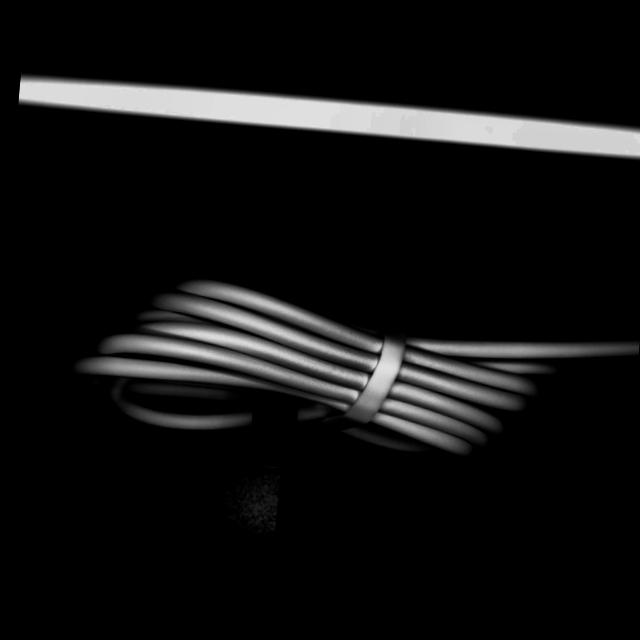Cable: (58, 251, 640, 476)
